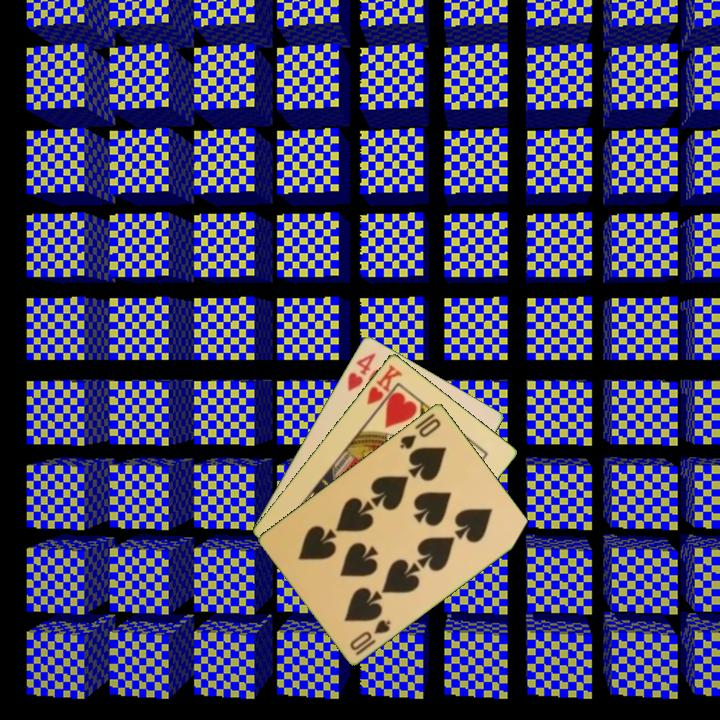10s: (346, 615, 394, 658), (396, 414, 444, 452)
4h: (344, 349, 378, 394)
Kh: (363, 361, 405, 415)
